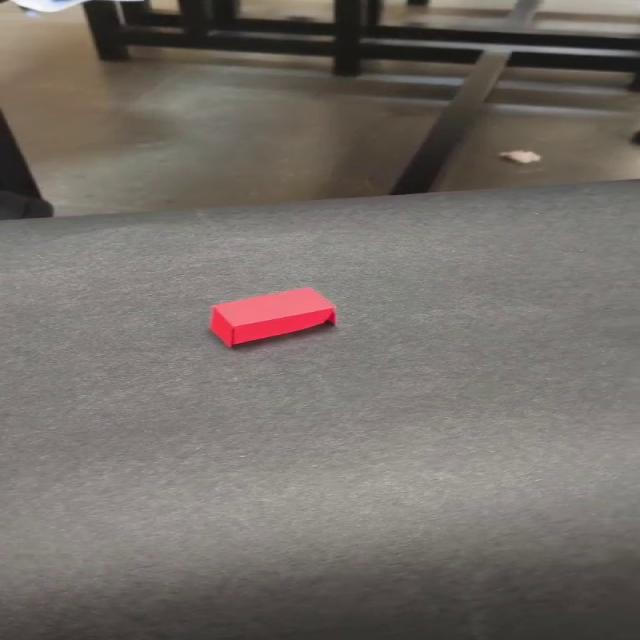red block: (208, 286, 336, 347)
